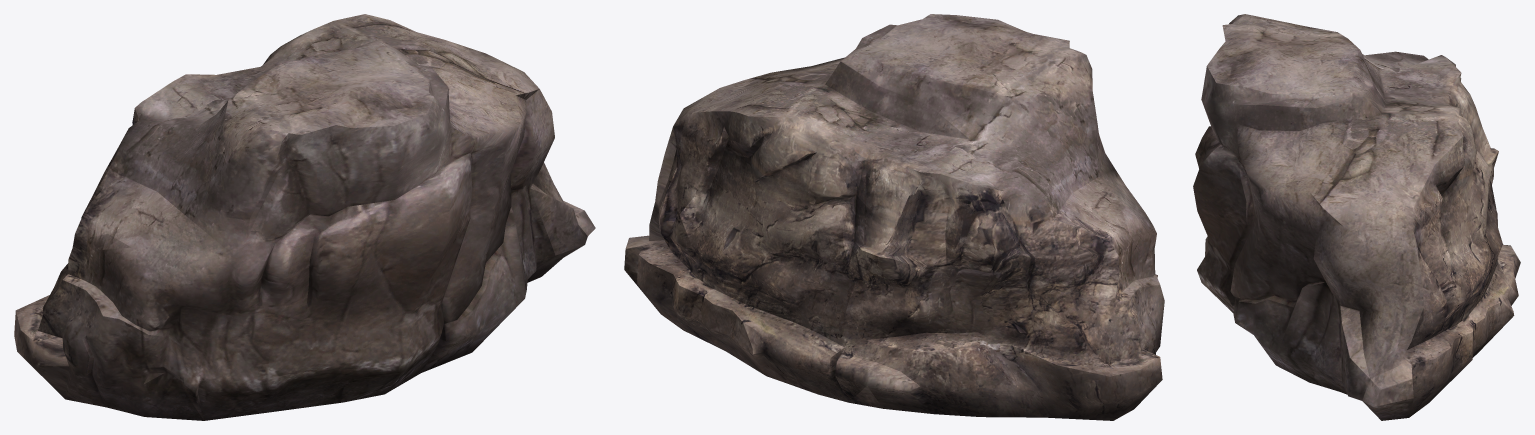
The model's file is Rock 01.FBX.
The picture shows the model from 3 angles, left to right: view 1: azimuth 30°, elevation 25°; view 2: azimuth 150°, elevation 25°; view 3: azimuth 270°, elevation 25°; orthographic projection. The views are drawn at different scales.
Parts seen in each view (by area): view 1: Rock 01; view 2: Rock 01; view 3: Rock 01.
Part boxes in pixels (x1,y1,x2,y2): Rock 01: (14, 14, 595, 420); Rock 01: (624, 14, 1164, 420); Rock 01: (1193, 14, 1520, 420).
Size of the model in its own units: 22.62 by 11.44 by 12.96.
